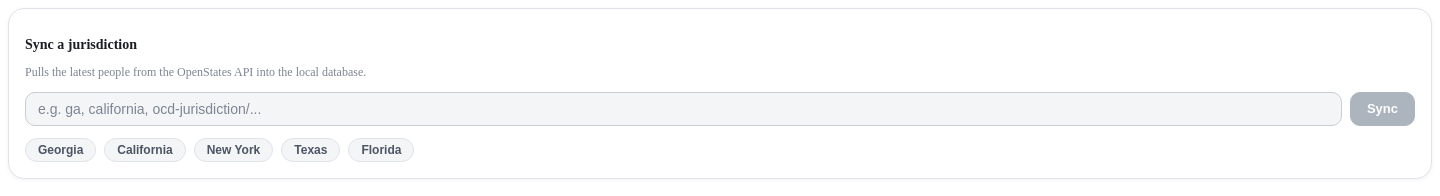
Test: SyncPanel › enables sync button when input has value
In the field named "Jurisdiction to sync": (683, 109) [25,92,1342,126], type "GA"
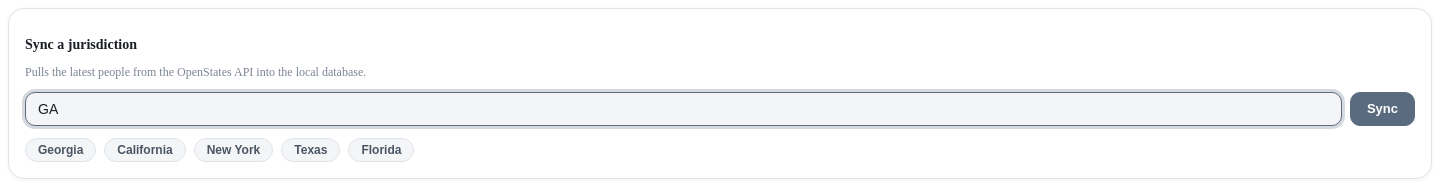
Result: the button "Sync" is enabled at [1350,92,1415,126]
